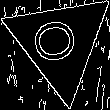O_E: (33, 18, 87, 68)
